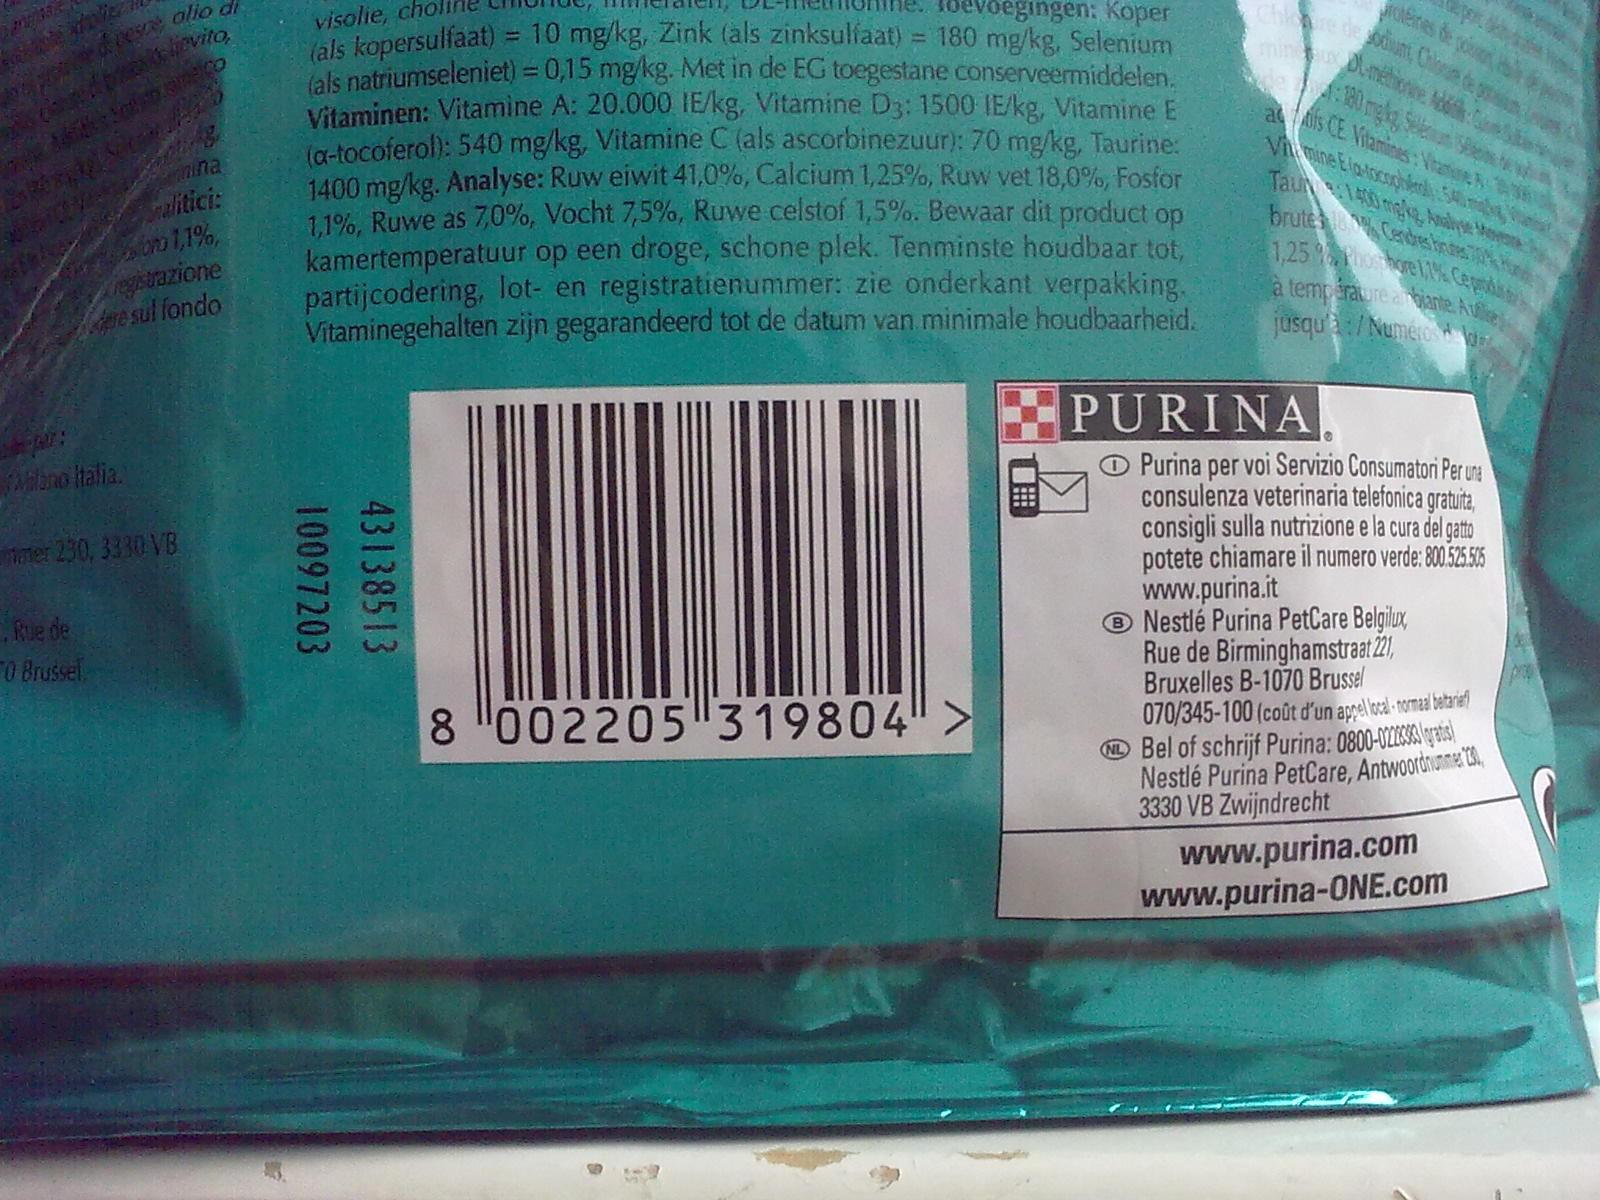Barcode: (409, 379, 975, 764)
